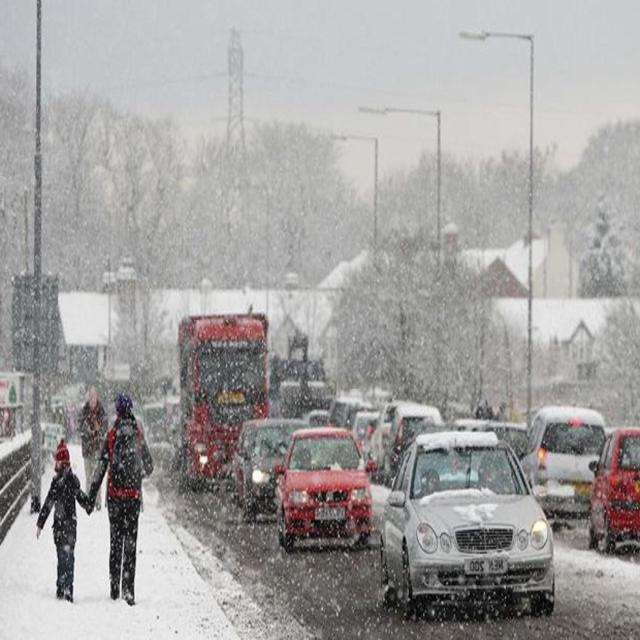Car: (378, 429, 558, 616), (276, 430, 377, 550), (518, 407, 614, 530), (237, 424, 318, 527), (588, 425, 640, 555)
Truck: (168, 309, 273, 492)
